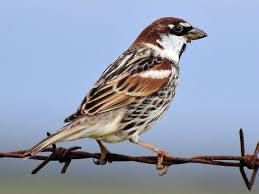hsparrow: (19, 12, 209, 171)
